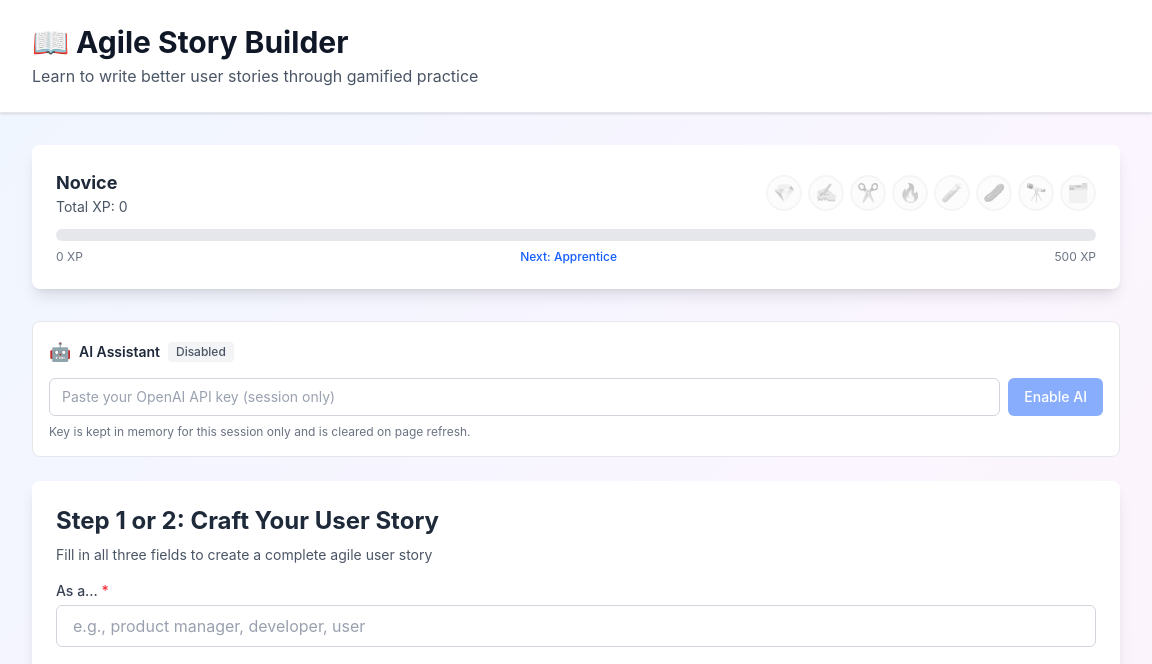
Scenario: AI gating › clears key and disables AI immediately when Disable AI is clicked
Note: Enable AI
Type "test-key" into the password field labelled "Paste your OpenAI API key (session only)".
click(525, 397); type("test-key")  # box x1=49 y1=378 x2=1000 y2=416
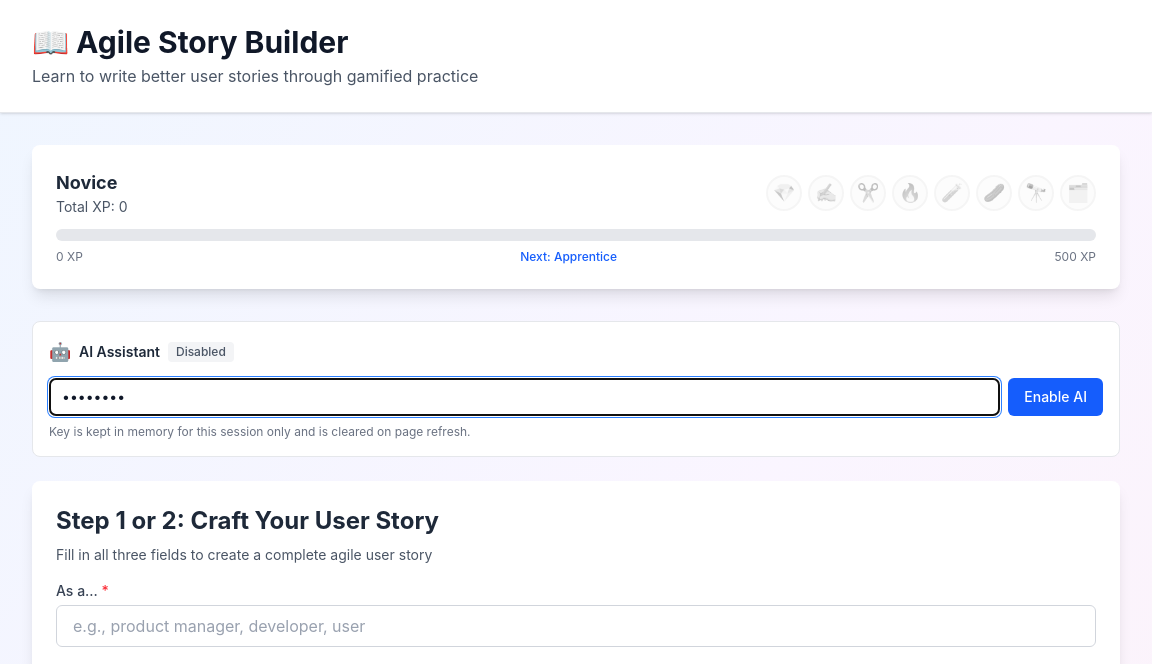
Click the button "Enable AI".
click(1056, 397)  # box x1=1008 y1=378 x2=1103 y2=416
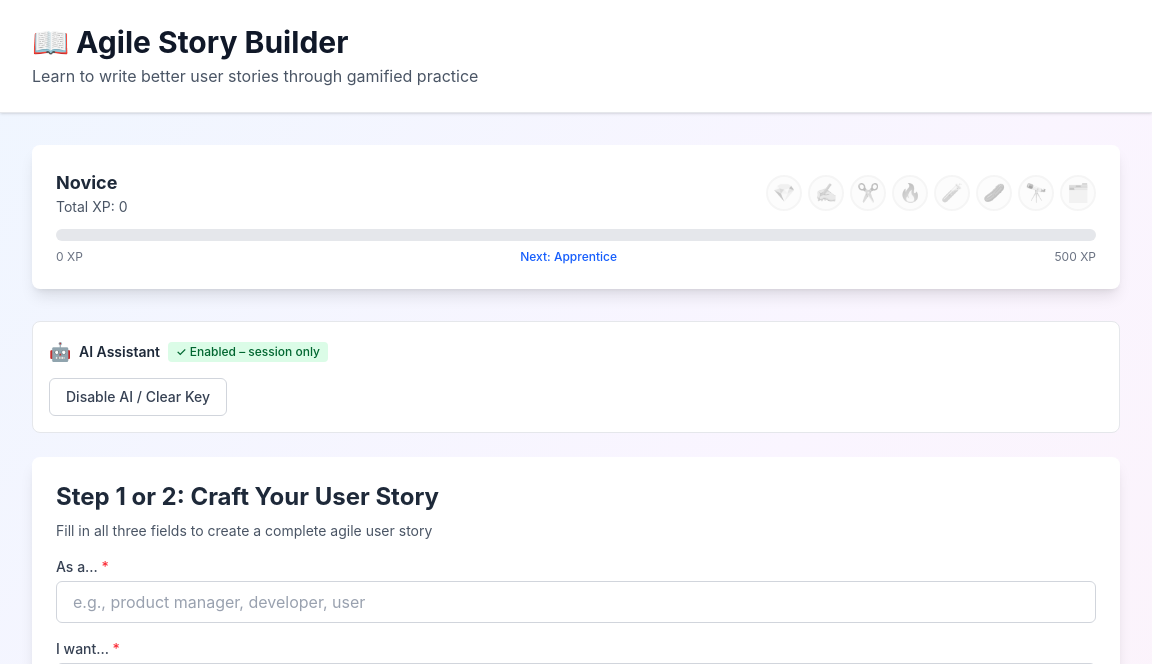
Now the text "✓ Enabled – session only" is shown, box x1=168 y1=342 x2=328 y2=362
Note: Disable AI
Click the button "Disable AI / Clear Key".
click(138, 397)  # box x1=49 y1=378 x2=227 y2=416
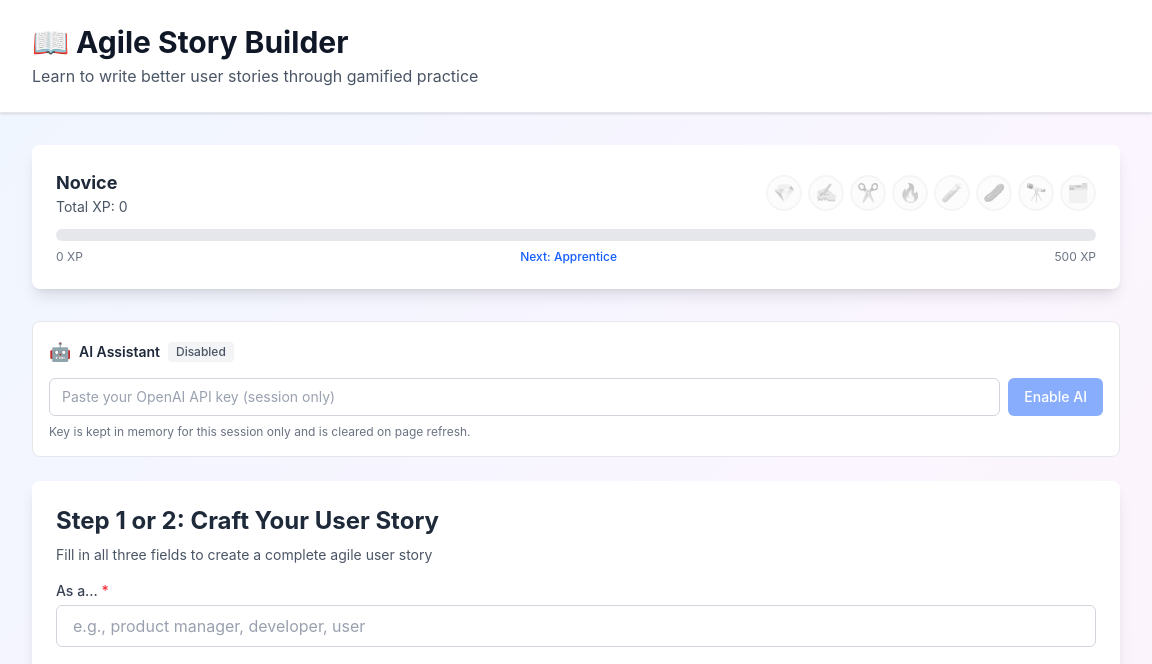
Now the text "Enabled – session only" is gone
Now the button "Enable AI" is shown, box x1=1008 y1=378 x2=1103 y2=416
